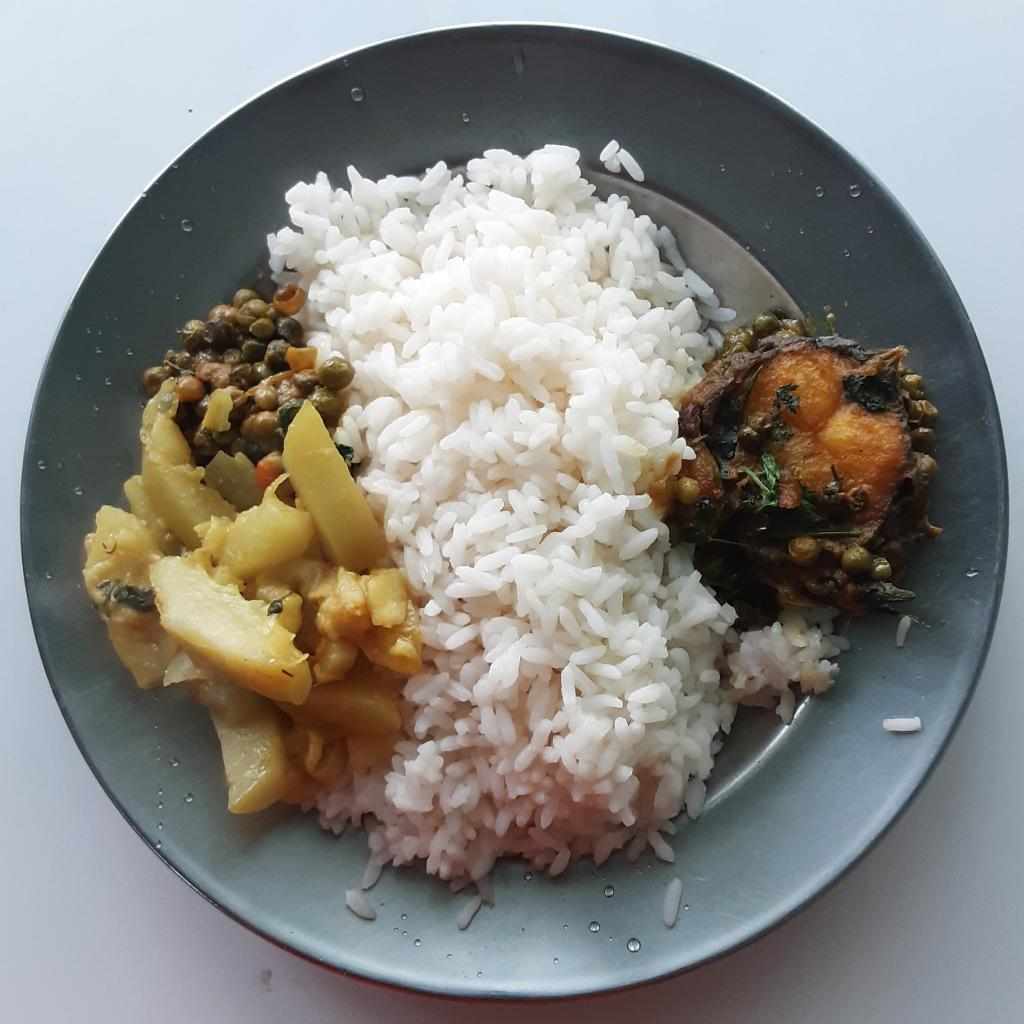fish: (684, 329, 940, 621)
green-pea: (139, 276, 348, 461), (737, 300, 807, 341), (911, 374, 941, 454), (837, 540, 894, 581), (790, 538, 823, 565), (681, 471, 701, 498)
lau: (84, 379, 418, 811)
rice: (267, 136, 852, 935)
